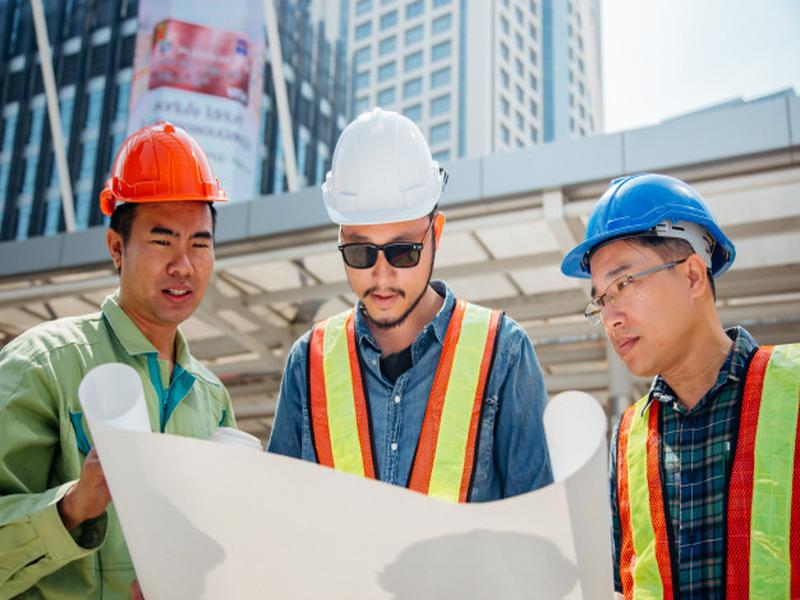hard-hat: (558, 170, 739, 283), (320, 107, 449, 229), (97, 117, 232, 220)
